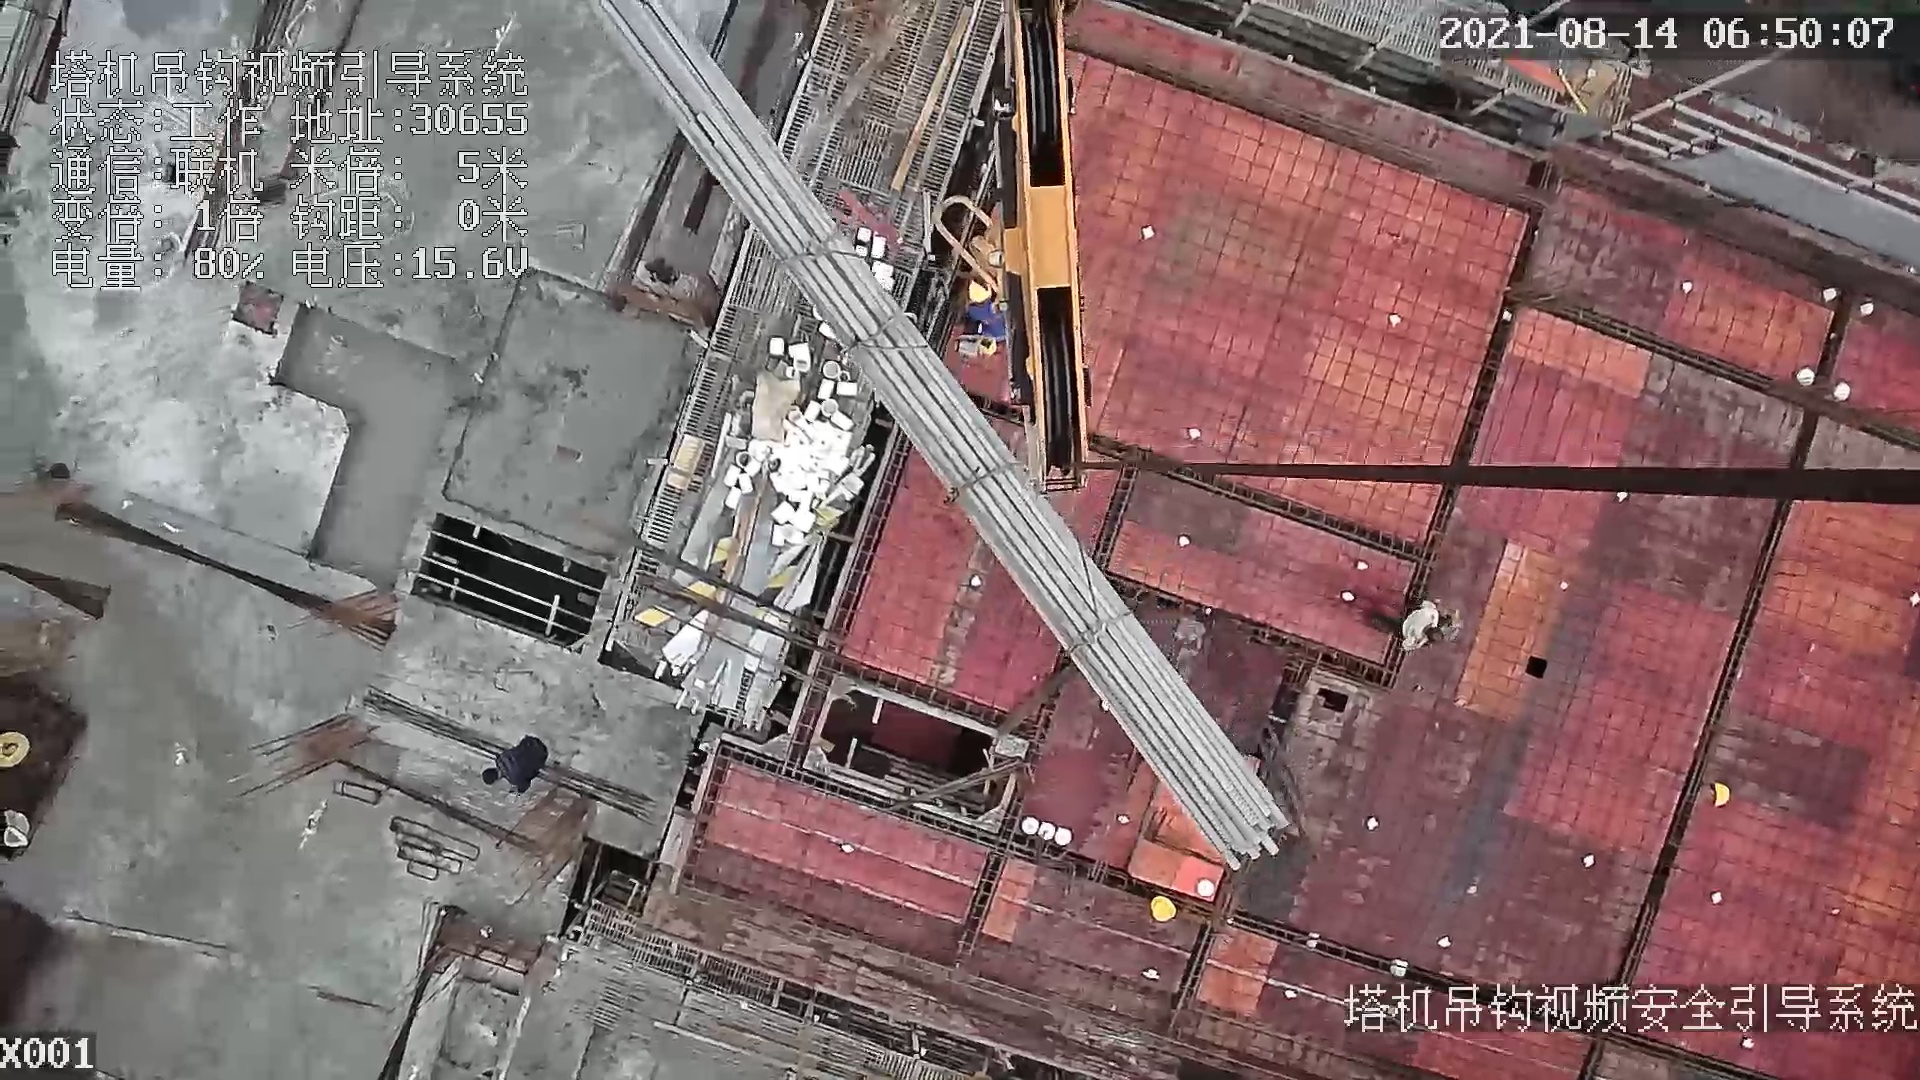helmet: (1700, 769, 1744, 812), (1142, 888, 1188, 925), (967, 281, 994, 304)
hook: (928, 1, 1094, 497)
person: (1372, 586, 1459, 656), (473, 731, 556, 803), (964, 281, 1033, 353)
